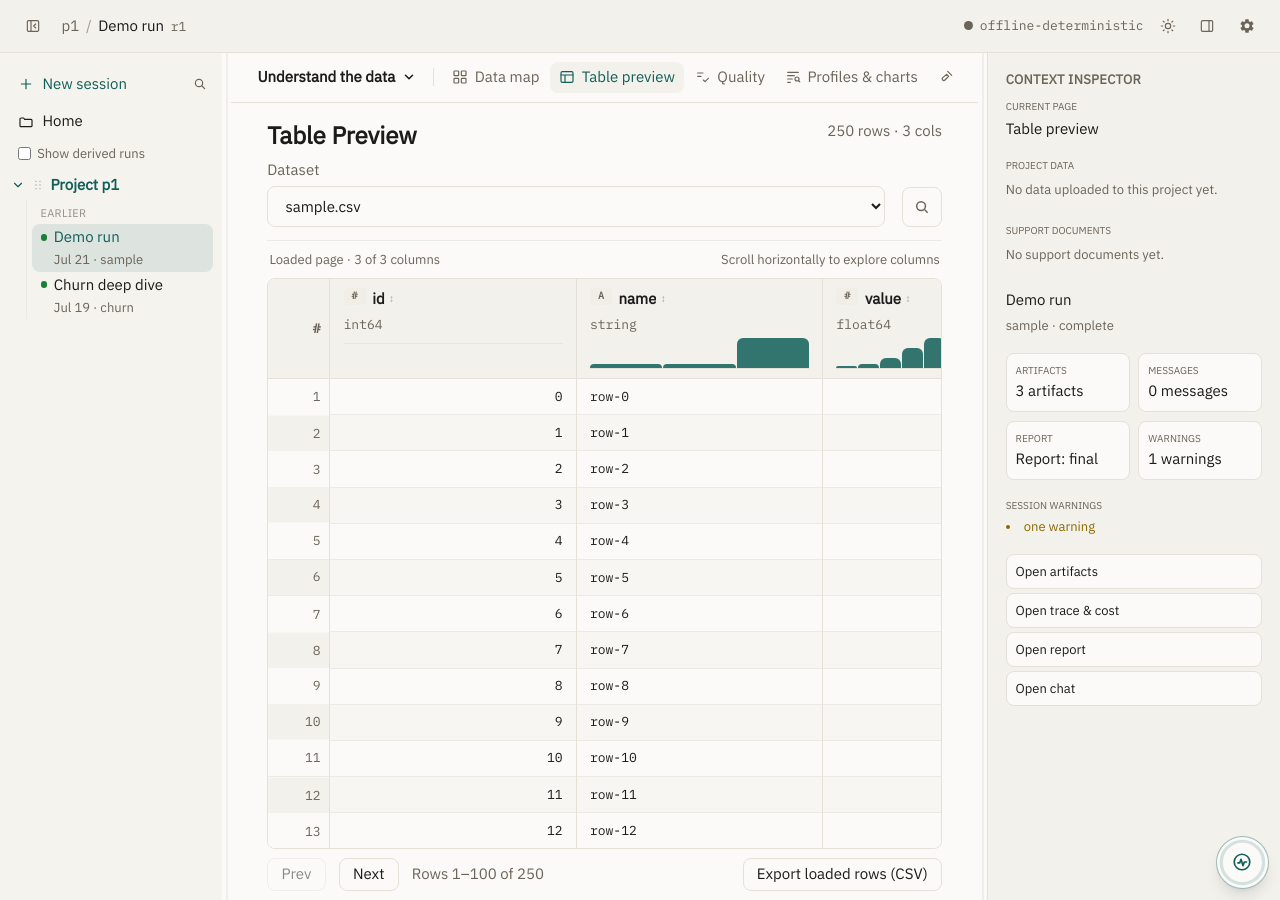
Test case: Table header distributions (integration) › highlights a hovered histogram bin and exposes its range, count, and share in the header
Hover over the 1st button with test id "header-distribution-bin" at {"x": 847, "y": 353}, box [836, 338, 857, 368]
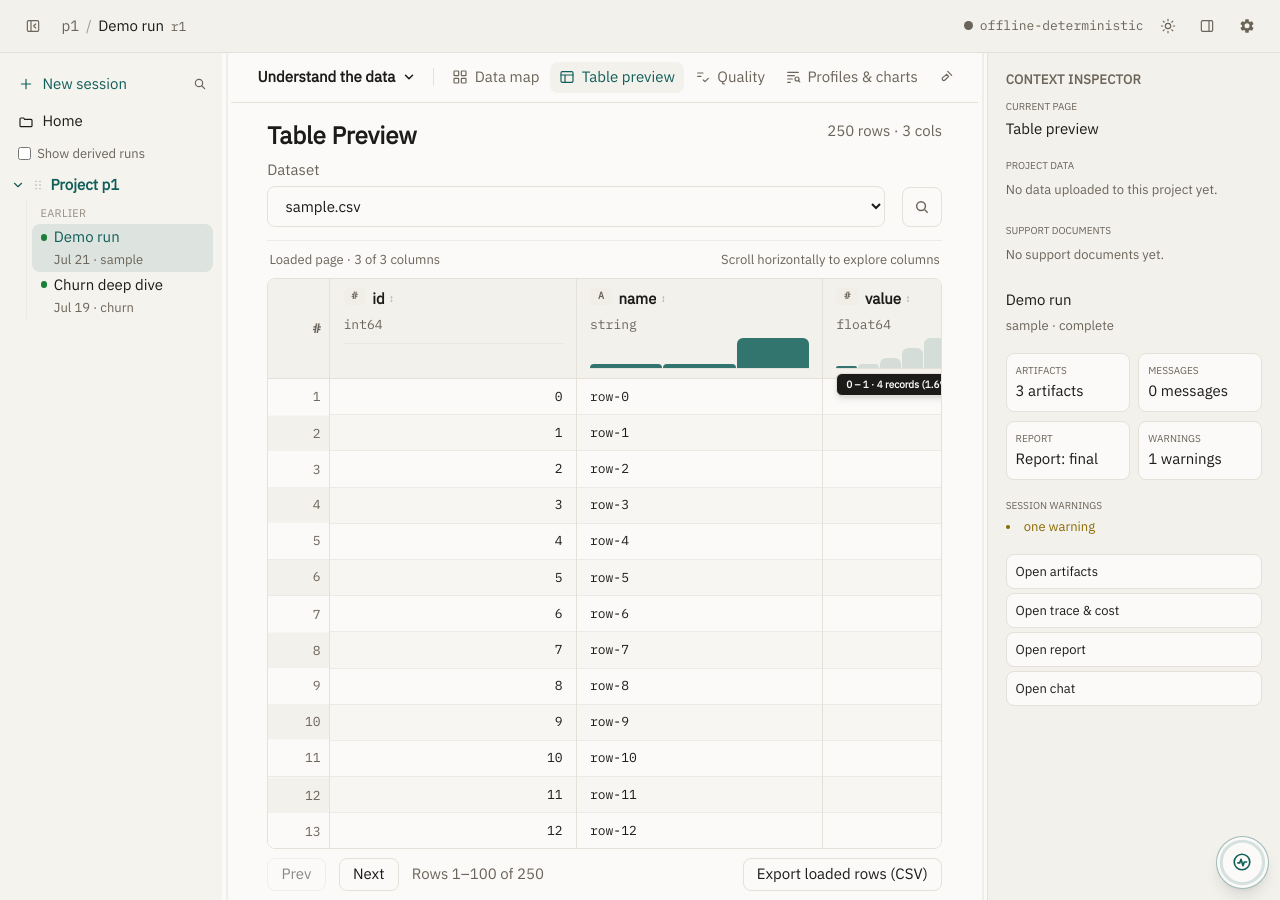
Check: the text "0 – 1 · 4 records (1.6%)" is shown, box [836, 373, 942, 396]
